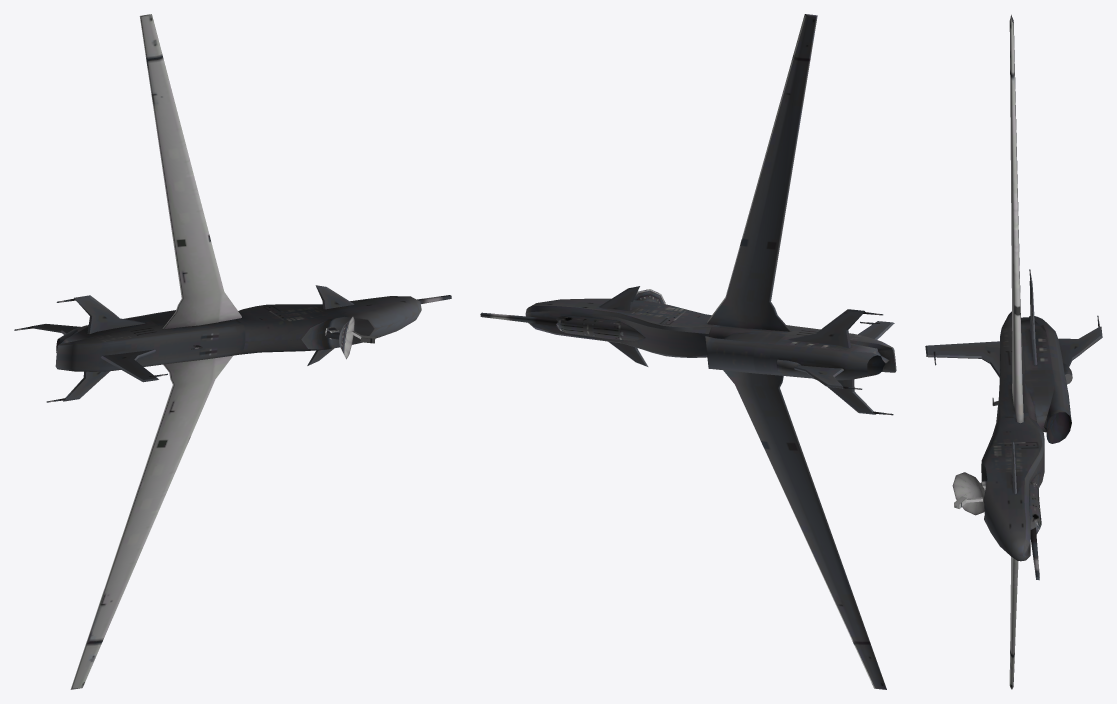
Rendered from PilotFish_UAV.obj.
3 views of the same model, side by side, from view 1: azimuth 30°, elevation 25°; view 2: azimuth 150°, elevation 25°; view 3: azimuth 270°, elevation 25° (orthographic). The views are drawn at different scales.
Parts seen in each view (by area): view 1: LOD0; view 2: LOD0; view 3: LOD0.
Boxes of the visible parts, <box> form: LOD0: <box>14,14,451,689</box>; LOD0: <box>480,14,896,689</box>; LOD0: <box>925,14,1102,689</box>.
Size of the model in its own units: 16.73 by 25.76 by 5.87.
1 material, 1 textured.
